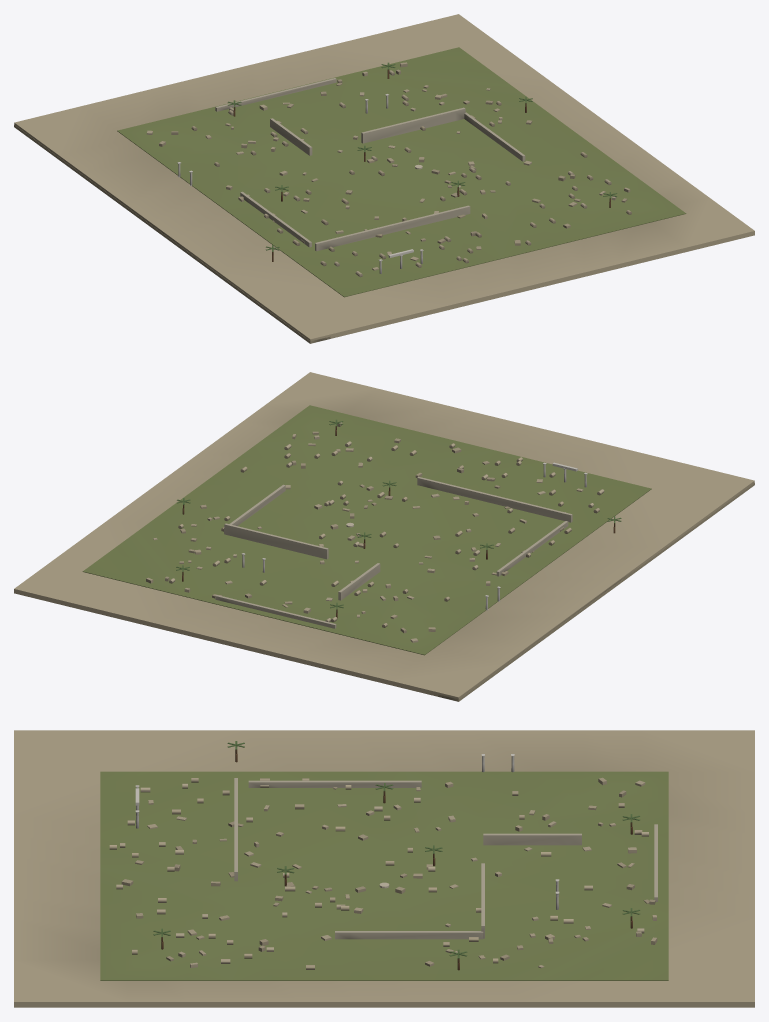
The model's file is royal-palaces-ruin.glb.
3 renders of one model, top to bottom at view 1: azimuth 30°, elevation 25°; view 2: azimuth 150°, elevation 25°; view 3: azimuth 270°, elevation 25°, orthographic. The views are drawn at different scales.
Parts seen in each view (by area): view 1: p0_terraces, p1_ruins, p2_trees; view 2: p0_terraces, p1_ruins; view 3: p0_terraces, p1_ruins, p2_trees.
Part boxes in pixels (<box>): p0_terraces: <box>14,14,754,343</box>; p1_ruins: <box>146,62,631,277</box>; p2_trees: <box>227,62,617,261</box>; p0_terraces: <box>14,372,754,701</box>; p1_ruins: <box>146,422,604,642</box>; p0_terraces: <box>14,730,754,1007</box>; p1_ruins: <box>109,754,657,969</box>; p2_trees: <box>153,741,640,962</box>.
Bounding box in the file's own units: 260 × 11.7 × 300.
